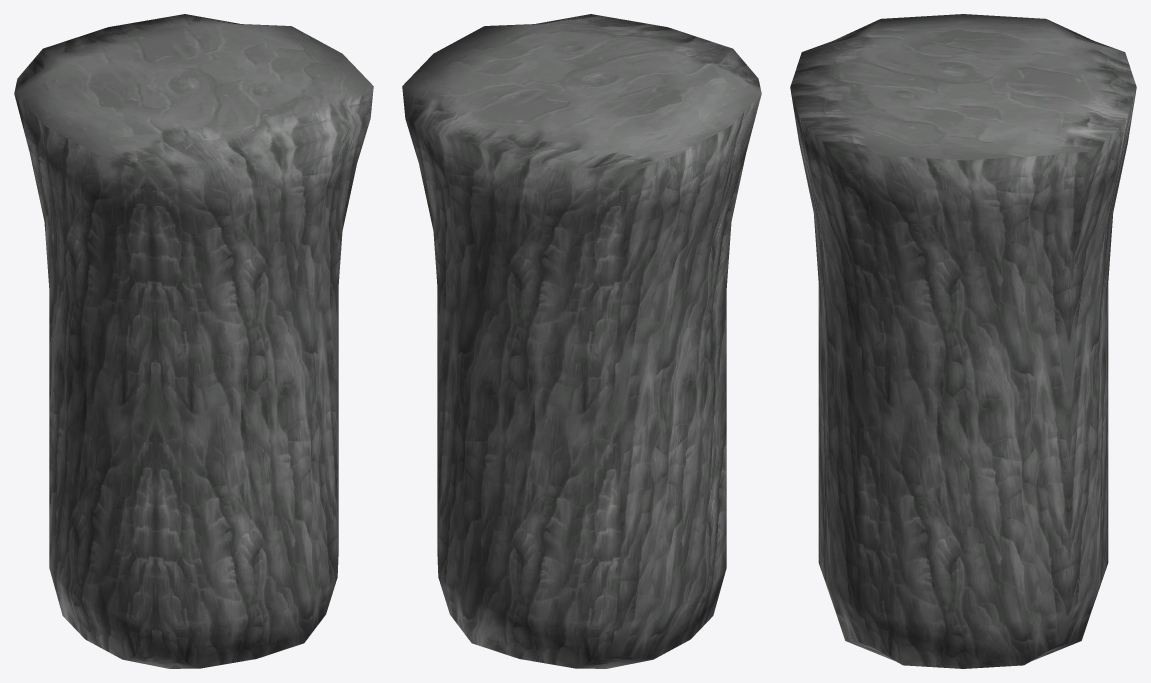
File: INST_SWORDLIGHT_ROCKPLATC.fbx
3 views of the same model, side by side, from view 1: azimuth 30°, elevation 25°; view 2: azimuth 150°, elevation 25°; view 3: azimuth 270°, elevation 25° (orthographic).
Visible parts, largest first — view 1: INST_SWORDLIGHT_ROCKPLATC; view 2: INST_SWORDLIGHT_ROCKPLATC; view 3: INST_SWORDLIGHT_ROCKPLATC.
Part boxes in pixels (x1,y1,x2,y2): INST_SWORDLIGHT_ROCKPLATC: (14,14,373,668); INST_SWORDLIGHT_ROCKPLATC: (402,14,761,668); INST_SWORDLIGHT_ROCKPLATC: (790,14,1136,668).
Bounding box in the file's own units: 22433 × 39787 × 22433.
2 materials, 2 textured.
